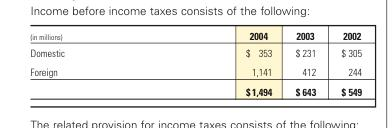table: (29, 29, 361, 97)
table column: (154, 29, 283, 97), (29, 29, 154, 97), (283, 29, 327, 97), (327, 29, 361, 97)
table column header: (29, 29, 361, 43)
table row: (29, 61, 361, 81), (29, 43, 361, 61), (29, 81, 361, 97), (29, 29, 361, 43)
